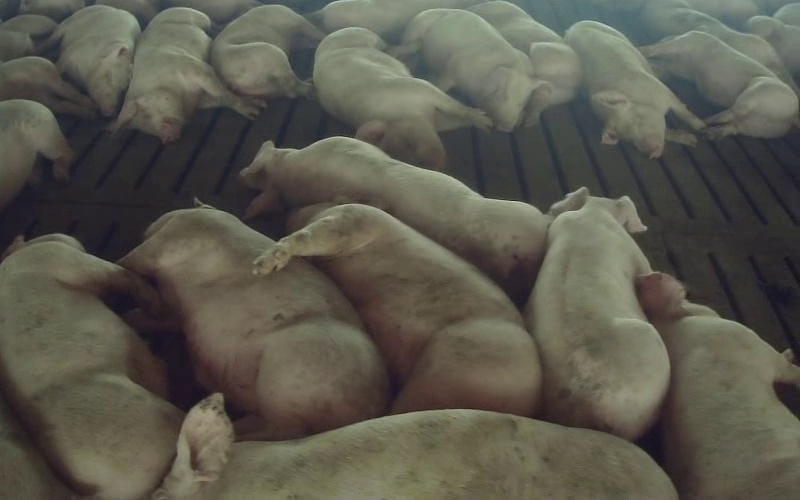pig: (120, 207, 390, 436), (255, 204, 540, 415), (154, 394, 676, 499), (0, 234, 183, 499), (636, 273, 799, 499), (526, 196, 669, 439), (313, 27, 491, 167), (112, 8, 263, 142), (565, 20, 704, 157), (395, 9, 539, 131), (640, 31, 797, 137), (469, 0, 581, 123), (39, 5, 140, 116), (211, 5, 324, 97)
